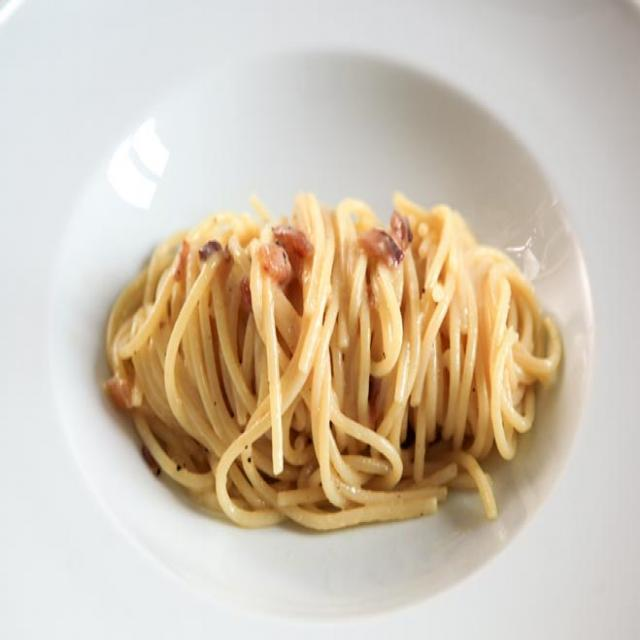Pasta with carbonara sauce: (69, 175, 609, 535)
